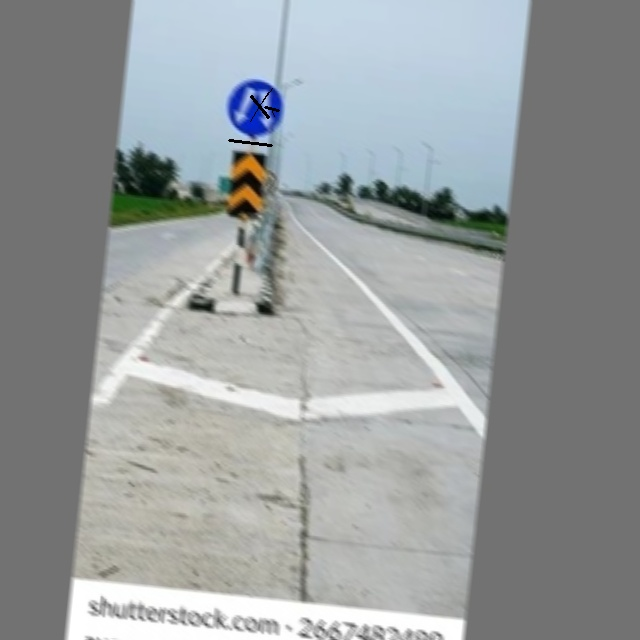Pass_Either_Side: (218, 70, 290, 146)
